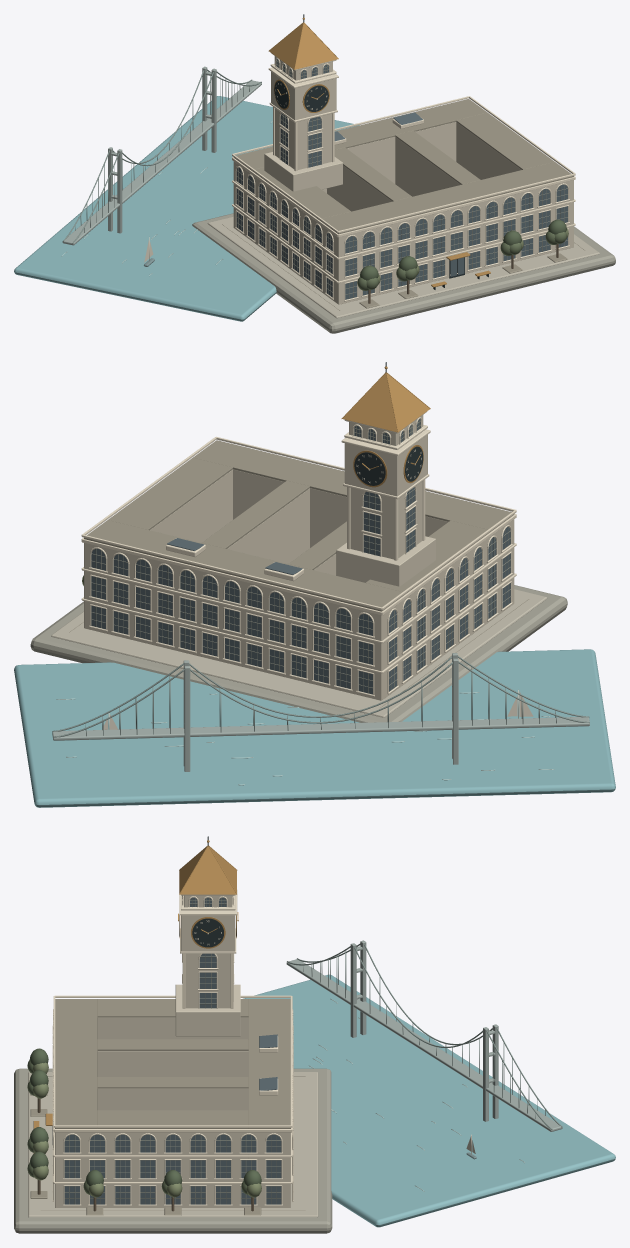
Rendered from clocktower.glb.
3 renders of one model, top to bottom at view 1: azimuth 30°, elevation 25°; view 2: azimuth 150°, elevation 25°; view 3: azimuth 270°, elevation 25°, orthographic. The views are drawn at different scales.
Visible parts, largest first — view 1: House, Scenery, Roof, Ground, Landscape, Props; view 2: Scenery, House, Roof, Ground, Props; view 3: Scenery, House, Roof, Ground, Landscape, Props.
Boxes of the visible parts, x1,y1,x2,y2 form: House: [232, 53, 575, 304]; Scenery: [14, 66, 359, 321]; Roof: [233, 14, 573, 234]; Ground: [192, 213, 615, 333]; Landscape: [357, 219, 568, 303]; Props: [274, 79, 490, 289]; Scenery: [14, 649, 615, 807]; House: [81, 411, 516, 700]; Roof: [84, 362, 514, 611]; Ground: [30, 585, 567, 722]; Props: [353, 445, 423, 487]; Scenery: [243, 940, 615, 1227]; House: [52, 890, 293, 1207]; Roof: [55, 836, 290, 1128]; Ground: [14, 1068, 332, 1233]; Landscape: [27, 1048, 261, 1211]; Props: [33, 912, 238, 1153].
Bounding box in the file's own units: 45.24 × 22.83 × 45.41.
